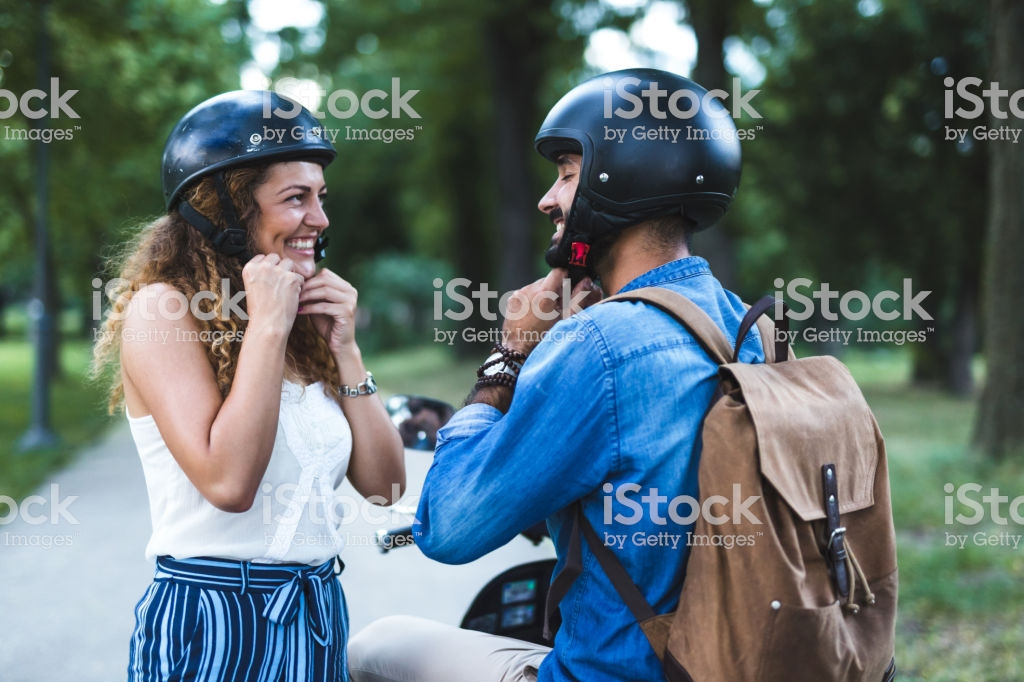helmet: (536, 68, 745, 238), (146, 78, 336, 175)
